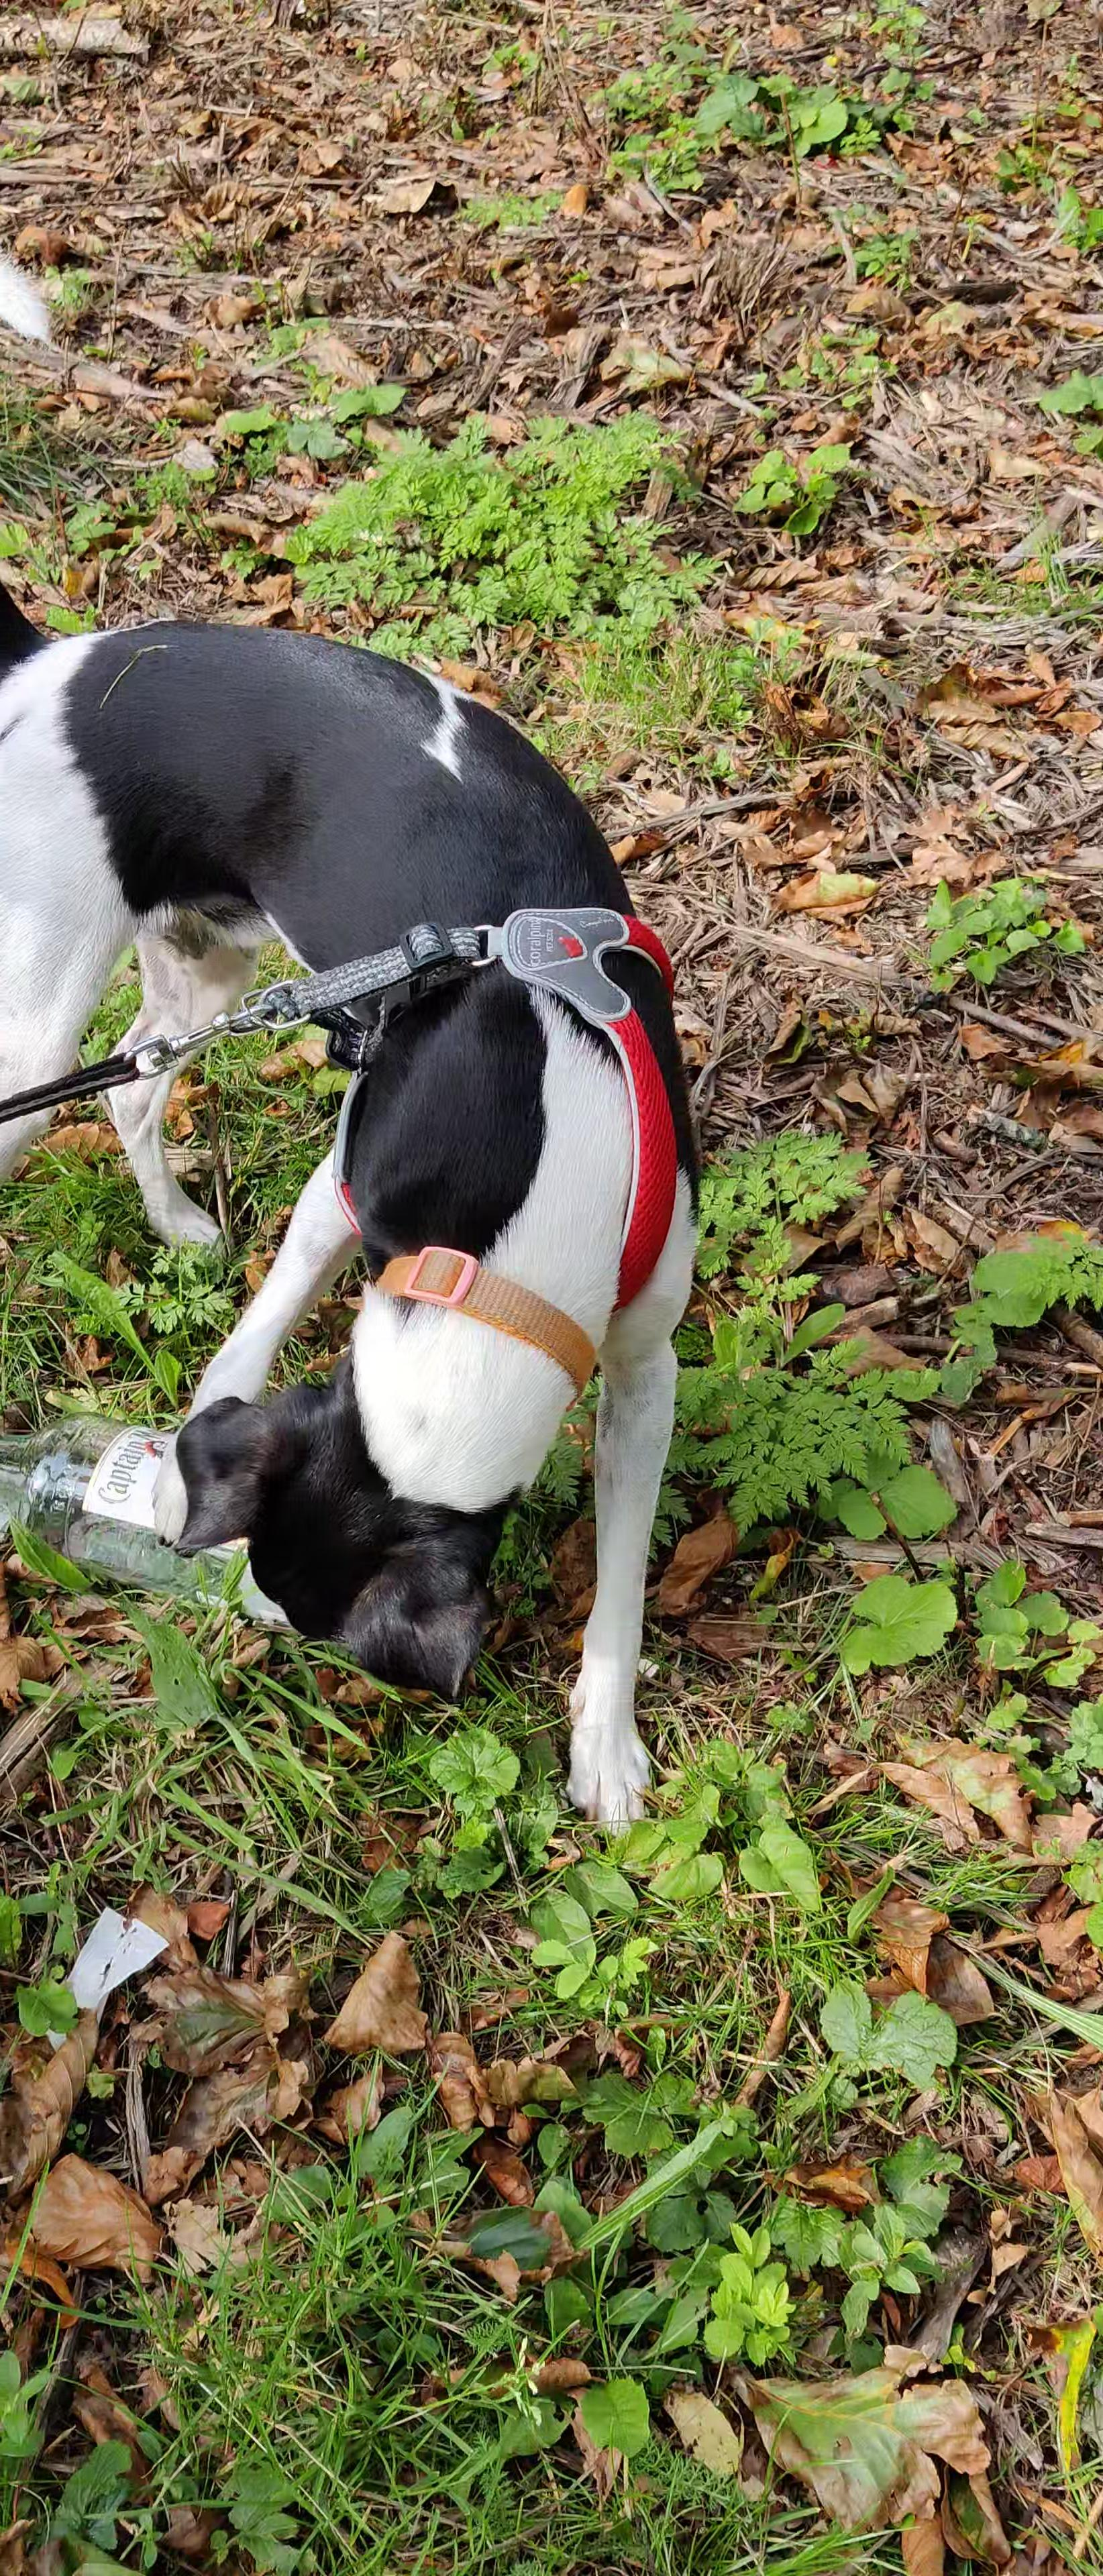Dog: (0, 228, 723, 1871)
